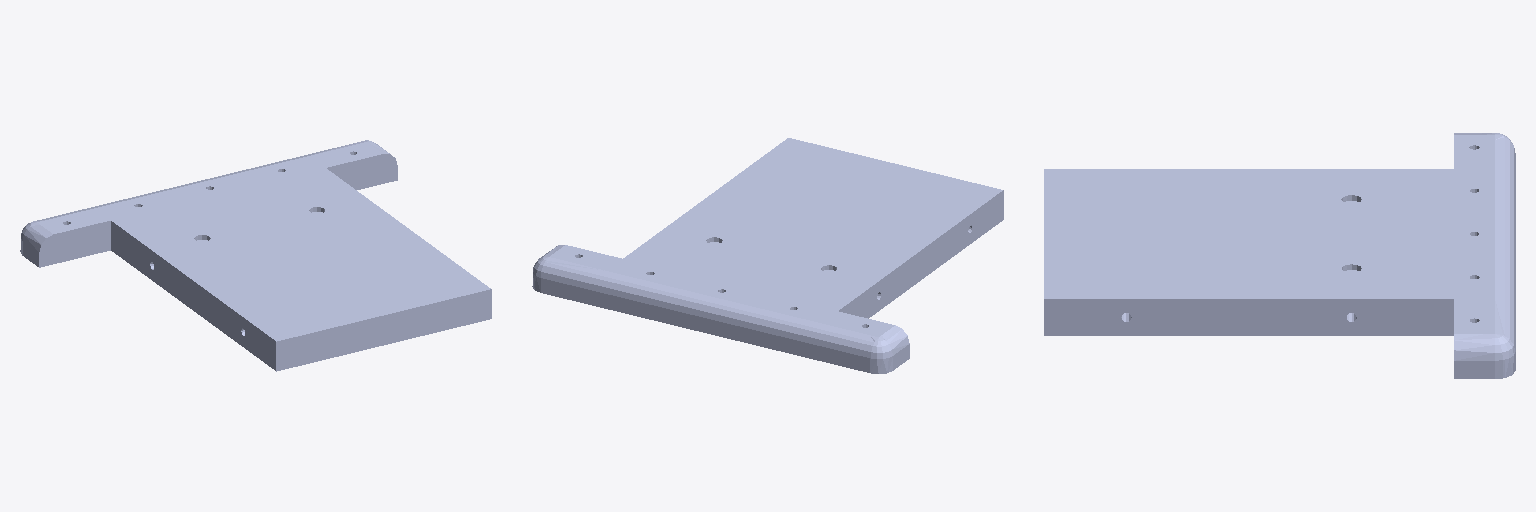
The robot description file, URDF, robot "urdf9":
<?xml version="1.0" encoding="utf-8"?>
<!-- This URDF was automatically created by SolidWorks to URDF Exporter! Originally created by [author] ([email redacted]) 
     Commit Version: 1.6.0-1-g15f4949  Build Version: 1.6.7594.29634
     For more information, please see http://wiki.ros.org/sw_urdf_exporter -->
<robot
  name="urdf9">
  <link
    name="base_link">
    <inertial>
      <origin
        xyz="-1.31002831059841E-17 0.0220877951621835 0.00992802999141622"
        rpy="0 0 0" />
      <mass
        value="0.735480271461957" />
      <inertia
        ixx="0.00351581895351442"
        ixy="1.04282598960359E-18"
        ixz="1.87324096685754E-21"
        iyy="0.00185879055900046"
        iyz="5.12477830237135E-06"
        izz="0.00532567864899257" />
    </inertial>
    <visual>
      <origin
        xyz="0 0 0"
        rpy="0 0 0" />
      <geometry>
        <mesh
          filename="package://urdf9/meshes/base_link.STL" />
      </geometry>
      <material
        name="">
        <color
          rgba="0.792156862745098 0.819607843137255 0.933333333333333 1" />
      </material>
    </visual>
    <collision>
      <origin
        xyz="0 0 0"
        rpy="0 0 0" />
      <geometry>
        <mesh
          filename="package://urdf9/meshes/base_link.STL" />
      </geometry>
    </collision>
  </link>
  <link
    name="RF">
    <inertial>
      <origin
        xyz="0 5.20417042793042E-18 0.00717282965435008"
        rpy="0 0 0" />
      <mass
        value="0.0489436503728706" />
      <inertia
        ixx="1.76621848414269E-05"
        ixy="-7.22268423045875E-22"
        ixz="-3.14625059126875E-22"
        iyy="1.76621848414269E-05"
        iyz="1.62698040148313E-22"
        izz="3.36011356425037E-05" />
    </inertial>
    <visual>
      <origin
        xyz="0 0 0"
        rpy="0 0 0" />
      <geometry>
        <mesh
          filename="package://urdf9/meshes/RF.STL" />
      </geometry>
      <material
        name="">
        <color
          rgba="0.792156862745098 0.819607843137255 0.933333333333333 1" />
      </material>
    </visual>
    <collision>
      <origin
        xyz="0 0 0"
        rpy="0 0 0" />
      <geometry>
        <mesh
          filename="package://urdf9/meshes/RF.STL" />
      </geometry>
    </collision>
  </link>
  <joint
    name="RFJ"
    type="continuous">
    <origin
      xyz="0.075 0.05 0.01"
      rpy="-1.5707963267949 0 -1.5707963267949" />
    <parent
      link="base_link" />
    <child
      link="RF" />
    <axis
      xyz="0 0 1" />
  </joint>
  <link
    name="RB">
    <inertial>
      <origin
        xyz="0 5.20417042793042E-18 0.00717282965435007"
        rpy="0 0 0" />
      <mass
        value="0.0489436503728706" />
      <inertia
        ixx="1.7662184841427E-05"
        ixy="-7.15427741925006E-22"
        ixz="8.03306952937725E-23"
        iyy="1.7662184841427E-05"
        iyz="1.70703863308735E-22"
        izz="3.36011356425037E-05" />
    </inertial>
    <visual>
      <origin
        xyz="0 0 0"
        rpy="0 0 0" />
      <geometry>
        <mesh
          filename="package://urdf9/meshes/RB.STL" />
      </geometry>
      <material
        name="">
        <color
          rgba="0.792156862745098 0.819607843137255 0.933333333333333 1" />
      </material>
    </visual>
    <collision>
      <origin
        xyz="0 0 0"
        rpy="0 0 0" />
      <geometry>
        <mesh
          filename="package://urdf9/meshes/RB.STL" />
      </geometry>
    </collision>
  </link>
  <joint
    name="RBJ"
    type="continuous">
    <origin
      xyz="0.0749999999999999 -0.06 0.01"
      rpy="-1.5707963267949 0 -1.5707963267949" />
    <parent
      link="base_link" />
    <child
      link="RB" />
    <axis
      xyz="0 0 1" />
  </joint>
  <link
    name="LF">
    <inertial>
      <origin
        xyz="-6.93889390390723E-18 -6.93889390390723E-18 -0.00717282965435005"
        rpy="0 0 0" />
      <mass
        value="0.0489436503728706" />
      <inertia
        ixx="1.76621848414269E-05"
        ixy="0"
        ixz="4.40195559547451E-22"
        iyy="1.76621848414269E-05"
        iyz="3.16382859435861E-22"
        izz="3.36011356425037E-05" />
    </inertial>
    <visual>
      <origin
        xyz="0 0 0"
        rpy="0 0 0" />
      <geometry>
        <mesh
          filename="package://urdf9/meshes/LF.STL" />
      </geometry>
      <material
        name="">
        <color
          rgba="0.792156862745098 0.819607843137255 0.933333333333333 1" />
      </material>
    </visual>
    <collision>
      <origin
        xyz="0 0 0"
        rpy="0 0 0" />
      <geometry>
        <mesh
          filename="package://urdf9/meshes/LF.STL" />
      </geometry>
    </collision>
  </link>
  <joint
    name="LFJ"
    type="continuous">
    <origin
      xyz="-0.075 0.05 0.01"
      rpy="1.5707963267949 0.917718602617513 1.5707963267949" />
    <parent
      link="base_link" />
    <child
      link="LF" />
    <axis
      xyz="0 0 1" />
  </joint>
  <link
    name="LB">
    <inertial>
      <origin
        xyz="0 -6.93889390390723E-18 -0.00717282965435007"
        rpy="0 0 0" />
      <mass
        value="0.0489436503728706" />
      <inertia
        ixx="1.7662184841427E-05"
        ixy="2.5410988417629E-21"
        ixz="6.93463757849115E-22"
        iyy="1.7662184841427E-05"
        iyz="-2.47999838408486E-23"
        izz="3.36011356425037E-05" />
    </inertial>
    <visual>
      <origin
        xyz="0 0 0"
        rpy="0 0 0" />
      <geometry>
        <mesh
          filename="package://urdf9/meshes/LB.STL" />
      </geometry>
      <material
        name="">
        <color
          rgba="0.792156862745098 0.819607843137255 0.933333333333333 1" />
      </material>
    </visual>
    <collision>
      <origin
        xyz="0 0 0"
        rpy="0 0 0" />
      <geometry>
        <mesh
          filename="package://urdf9/meshes/LB.STL" />
      </geometry>
    </collision>
  </link>
  <joint
    name="LBJ"
    type="continuous">
    <origin
      xyz="-0.075 -0.06 0.01"
      rpy="1.5707963267949 -0.584056750958047 1.5707963267949" />
    <parent
      link="base_link" />
    <child
      link="LB" />
    <axis
      xyz="0 0 1" />
  </joint>
</robot>

--- Render facts (derived) ---
3 views of the same robot in one strip: view 1: azimuth 30°, elevation 25°; view 2: azimuth 150°, elevation 25°; view 3: azimuth 270°, elevation 25° (orthographic).
Model urdf9 with 5 links and 4 joints (4 continuous), rooted at base_link, posed all joints at 0.
Links seen in each view (by area): view 1: base_link; view 2: base_link; view 3: base_link.
Link boxes in pixels (x1,y1,x2,y2): base_link: (20,140,491,371); base_link: (532,138,1003,373); base_link: (1044,133,1515,378).
Size in the robot's own frame: 0.25 by 0.23 by 0.02 metres.
Meshes: 5 distinct files referenced, 1 mesh visuals loaded (1 binary STL); not drawn: 4 (reference not matched to a file when rendering).